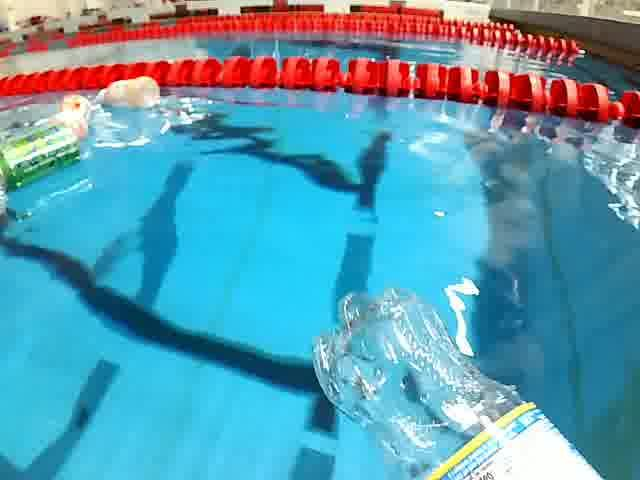Bottle: (300, 285, 611, 480), (98, 76, 162, 118)
Can: (0, 115, 85, 190)
